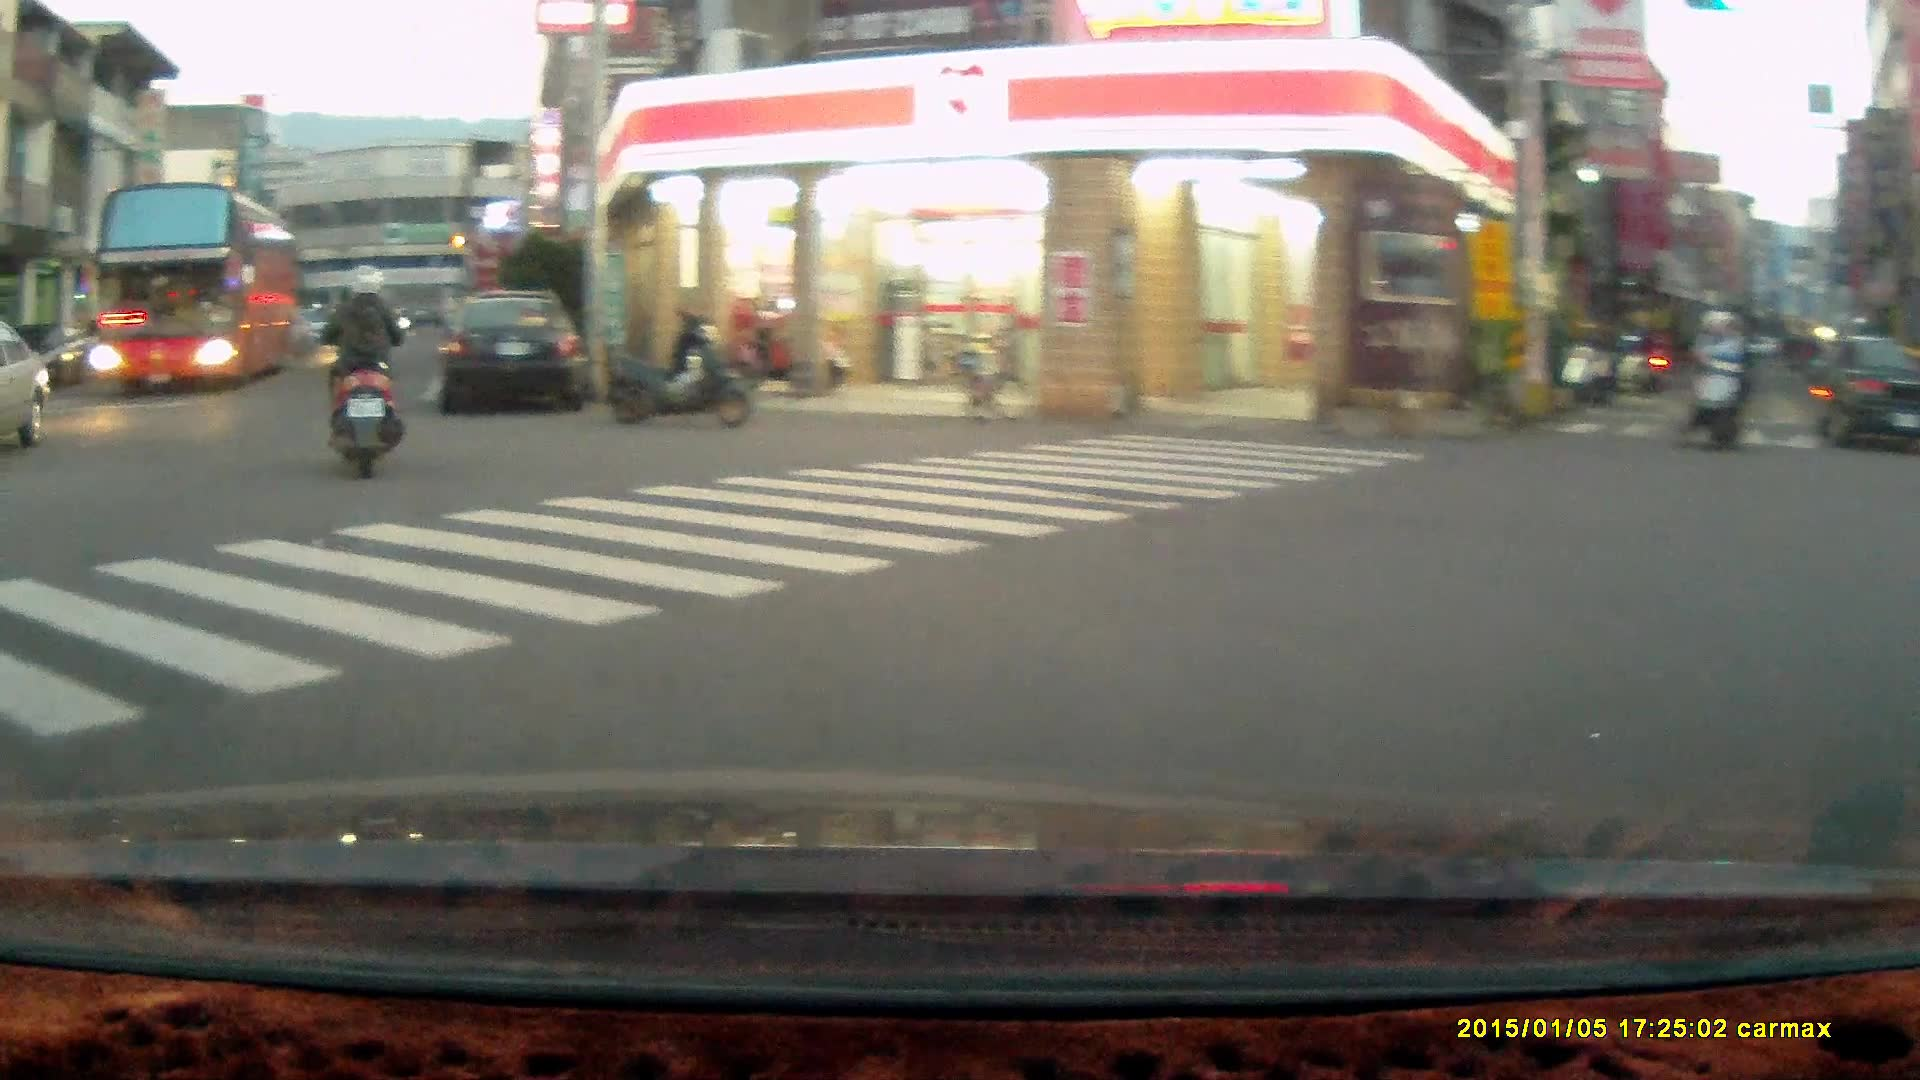rider: (318, 262, 414, 480), (1679, 306, 1750, 455)
vehicle: (91, 180, 301, 390), (435, 290, 589, 412), (1824, 334, 1920, 456)
